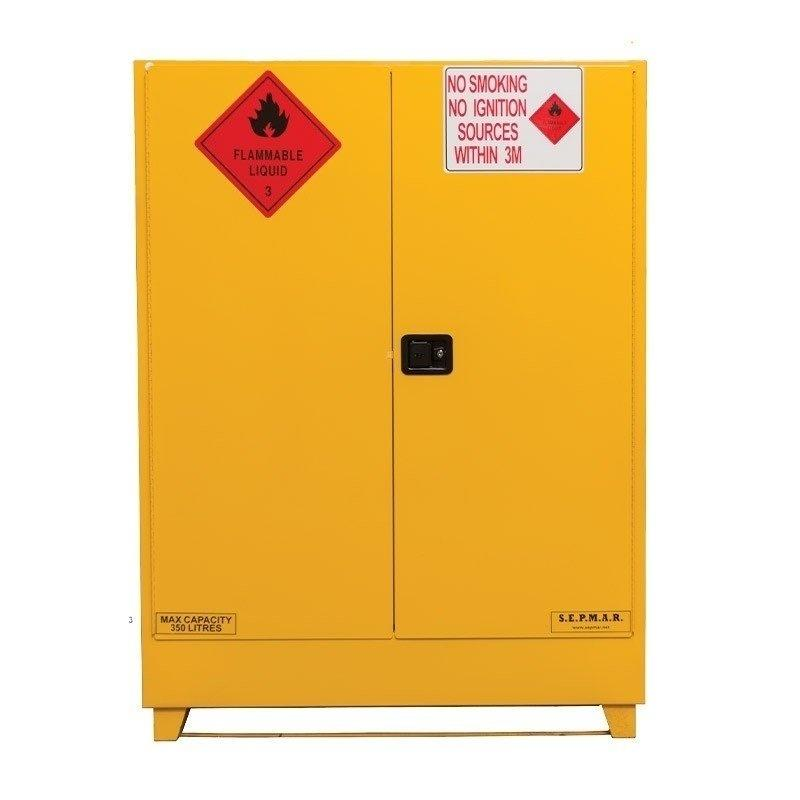cabinet_door: (142, 67, 394, 639), (400, 67, 638, 639)
handle: (401, 334, 453, 377)
